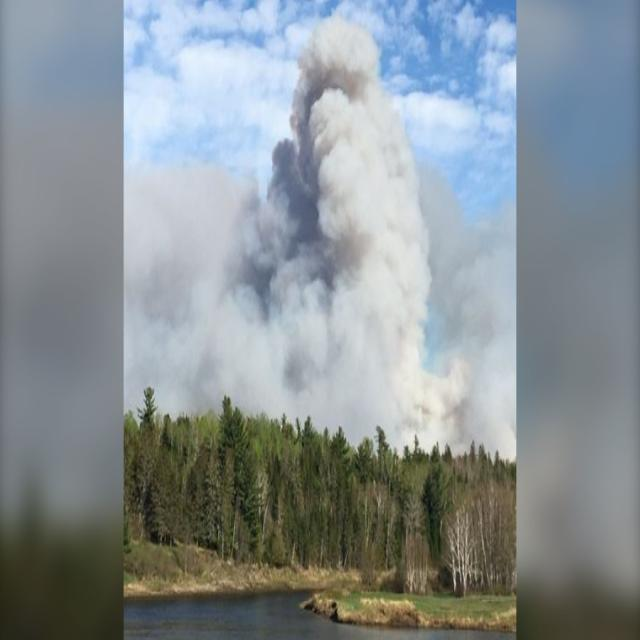smoke: (216, 7, 427, 461)
